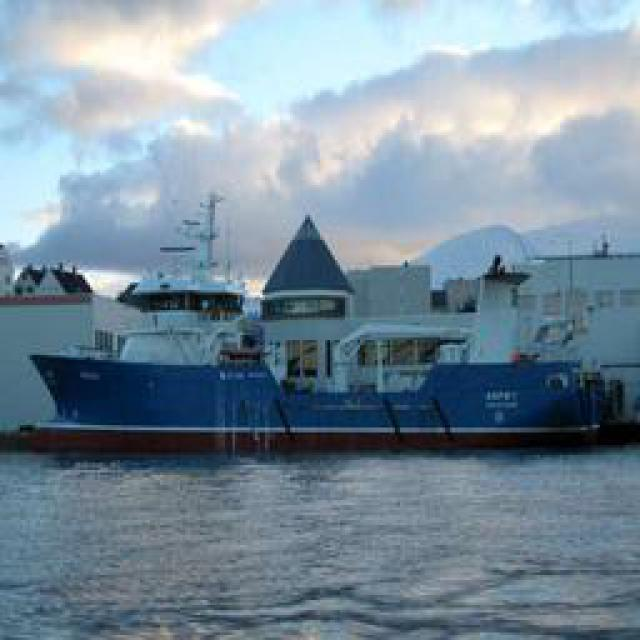Ship: (15, 307, 628, 457)
